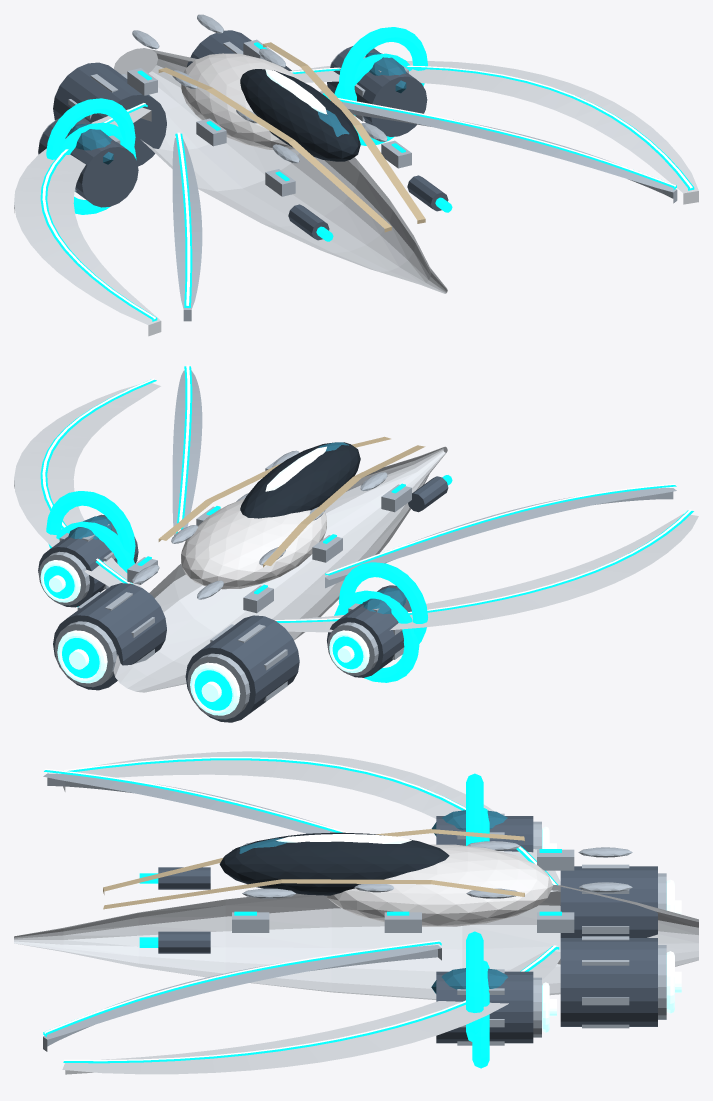
The model's file is SL_MERIDIAN_FINAL.glb.
3 renders of one model, top to bottom at view 1: azimuth 30°, elevation 25°; view 2: azimuth 150°, elevation 25°; view 3: azimuth 270°, elevation 25°, orthographic. The views are drawn at different scales.
Visible parts, largest first — view 1: armor, shadow, panel, neon, black, highlight, trim, bright, glass; view 2: armor, panel, neon, shadow, highlight, bright, black, trim, glass; view 3: armor, shadow, panel, highlight, neon, black, bright, trim, glass.
Part boxes in pixels (bbox=[...]): armor: bbox=[14, 48, 698, 336]; shadow: bbox=[38, 30, 448, 240]; panel: bbox=[39, 14, 677, 321]; neon: bbox=[40, 27, 694, 321]; black: bbox=[240, 69, 360, 161]; highlight: bbox=[181, 53, 306, 149]; trim: bbox=[158, 42, 425, 232]; bright: bbox=[42, 65, 692, 319]; glass: bbox=[68, 52, 406, 164]; armor: bbox=[14, 383, 698, 692]; panel: bbox=[38, 370, 676, 719]; neon: bbox=[40, 366, 693, 710]; shadow: bbox=[38, 476, 448, 722]; highlight: bbox=[181, 498, 326, 589]; bright: bbox=[40, 365, 691, 715]; black: bbox=[240, 442, 360, 518]; trim: bbox=[158, 436, 425, 567]; glass: bbox=[68, 442, 406, 614]; armor: bbox=[14, 751, 698, 1074]; shadow: bbox=[158, 816, 657, 1043]; panel: bbox=[43, 773, 666, 1051]; highlight: bbox=[326, 844, 553, 926]; neon: bbox=[43, 758, 561, 1068]; black: bbox=[219, 832, 449, 895]; bright: bbox=[44, 757, 681, 1061]; trim: bbox=[103, 829, 524, 909]; glass: bbox=[239, 810, 507, 993].
Size of the model in its own units: 6.09 by 1.38 by 5.5.
